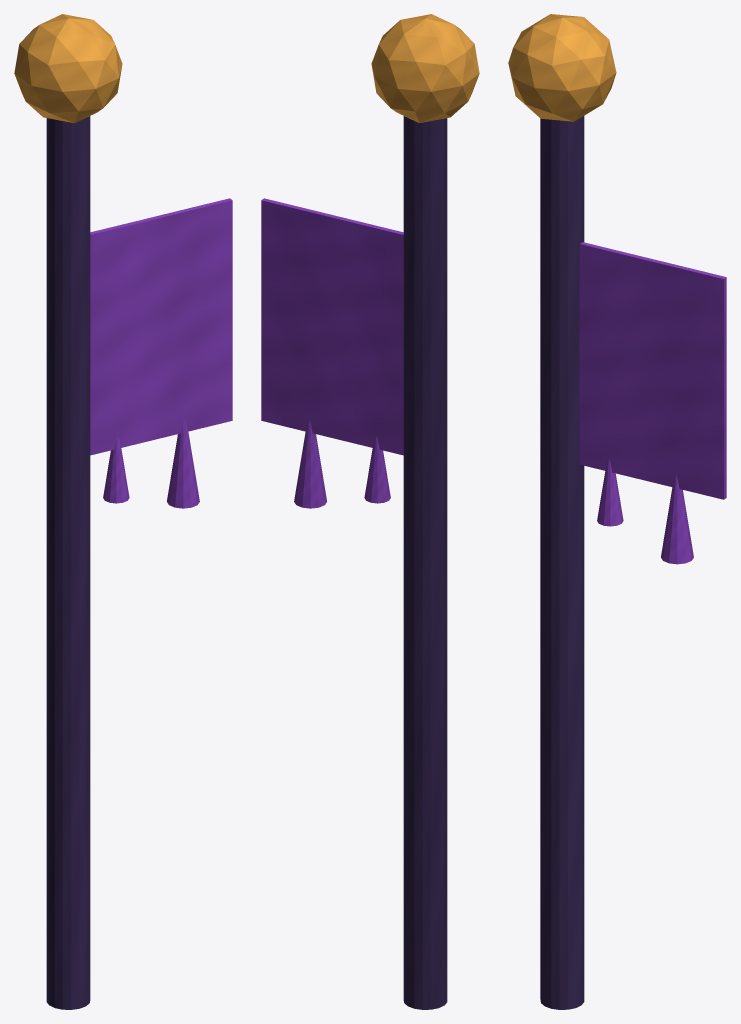
The model's file is abyssal-banner.glb.
The picture shows the model from 3 angles, left to right: view 1: azimuth 30°, elevation 25°; view 2: azimuth 150°, elevation 25°; view 3: azimuth 330°, elevation 25°; orthographic projection.
Parts seen in each view (by area): view 1: banner-pole, banner-cloth, banner-finial, banner-tassel-0, banner-tassel-1; view 2: banner-pole, banner-cloth, banner-finial, banner-tassel-0, banner-tassel-1; view 3: banner-pole, banner-cloth, banner-finial, banner-tassel-0, banner-tassel-1.
Boxes of the visible parts, box(x1,y1,x2,y2) form: banner-pole: box(46, 116, 90, 1009); banner-cloth: box(90, 198, 232, 455); banner-finial: box(14, 14, 122, 123); banner-tassel-0: box(167, 419, 199, 508); banner-tassel-1: box(103, 436, 129, 503); banner-pole: box(403, 116, 447, 1009); banner-cloth: box(261, 198, 403, 455); banner-finial: box(371, 14, 479, 123); banner-tassel-0: box(294, 419, 326, 508); banner-tassel-1: box(364, 436, 390, 503); banner-pole: box(540, 116, 584, 1009); banner-cloth: box(579, 242, 726, 499); banner-finial: box(508, 14, 616, 121); banner-tassel-0: box(661, 475, 693, 564); banner-tassel-1: box(597, 459, 623, 526).
Bounding box in the file's own units: 0.2176 × 0.98 × 0.1.
5 materials, 5 textured.
